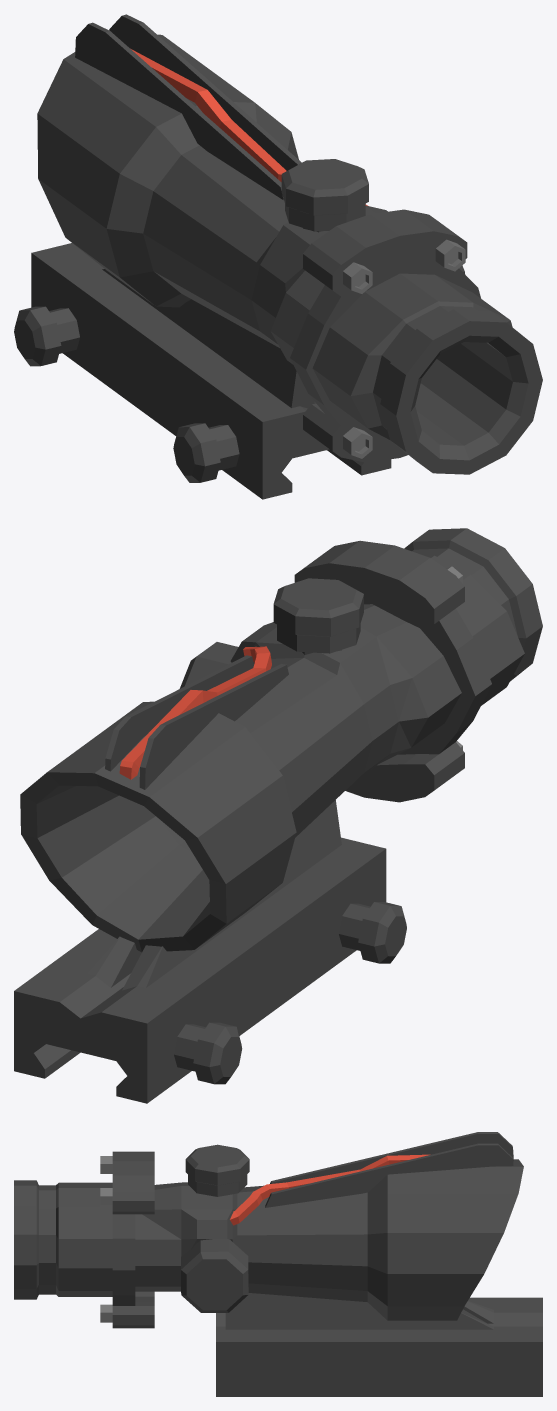
File: Acog Scope.fbx
3 renders of one model, top to bottom at view 1: azimuth 30°, elevation 25°; view 2: azimuth 150°, elevation 25°; view 3: azimuth 270°, elevation 25°, orthographic. The views are drawn at different scales.
Visible parts, largest first — view 1: Cylinder; view 2: Cylinder; view 3: Cylinder.
Part boxes in pixels (<box>): Cylinder: <box>14,14,542,499</box>; Cylinder: <box>14,528,542,1103</box>; Cylinder: <box>14,1132,542,1396</box>.
Bounding box in the file's own units: 63.12 × 86.91 × 181.
